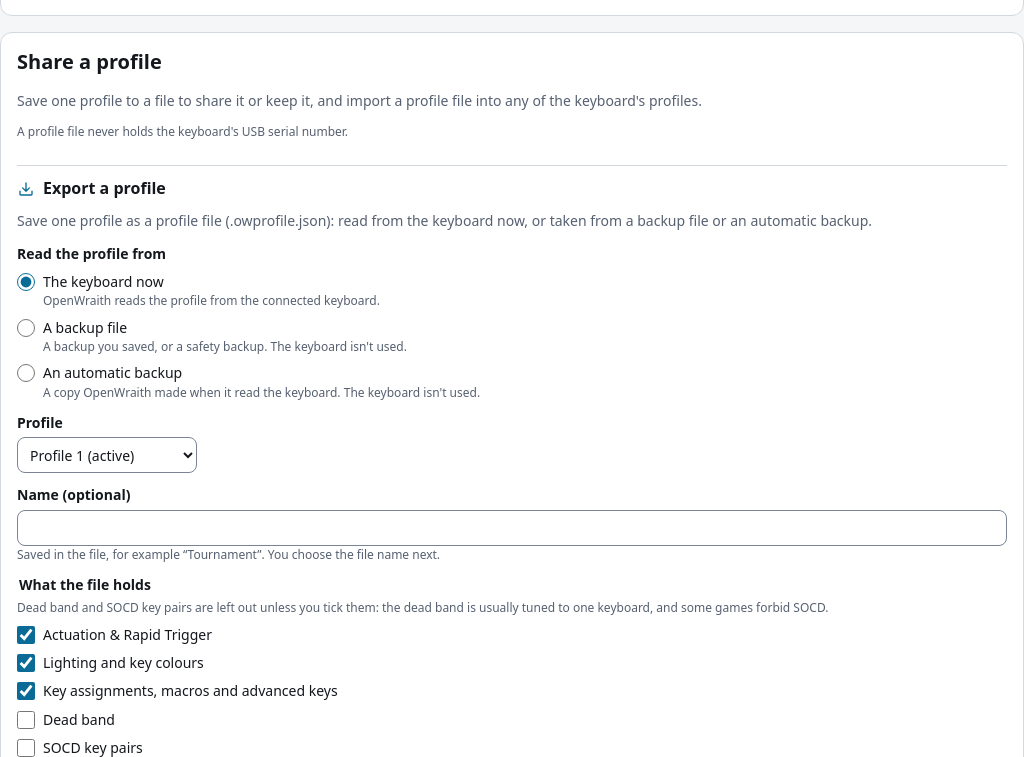
Scenario: export › exports from an automatic backup without the keyboard and without a switch
(page scrolled)
Click the radio button labelled "An automatic backup": (26, 373) [17,364,35,382]
(page scrolled)
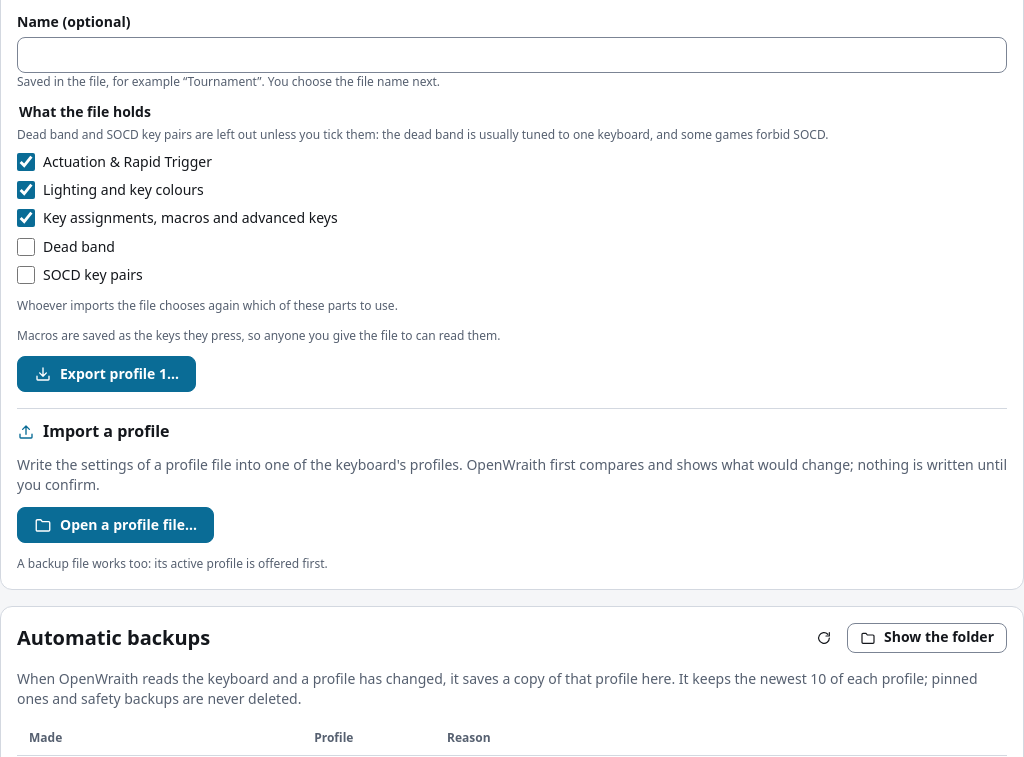
Click the button "Export profile 1…": (106, 374) [17,356,196,392]
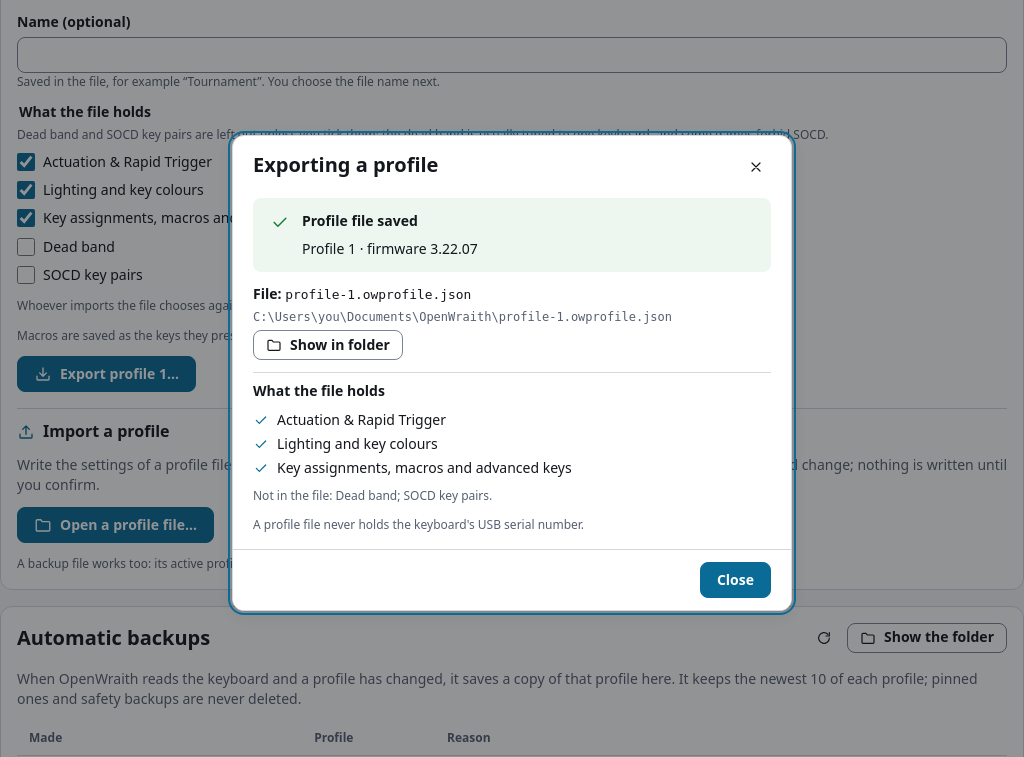
Expected: the text "Profile file saved" is shown, [302,211,418,230]
